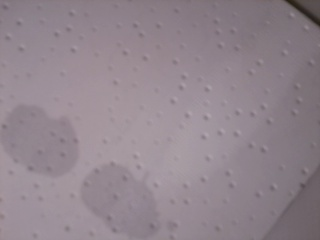Water_detected: (18, 114, 149, 226)
